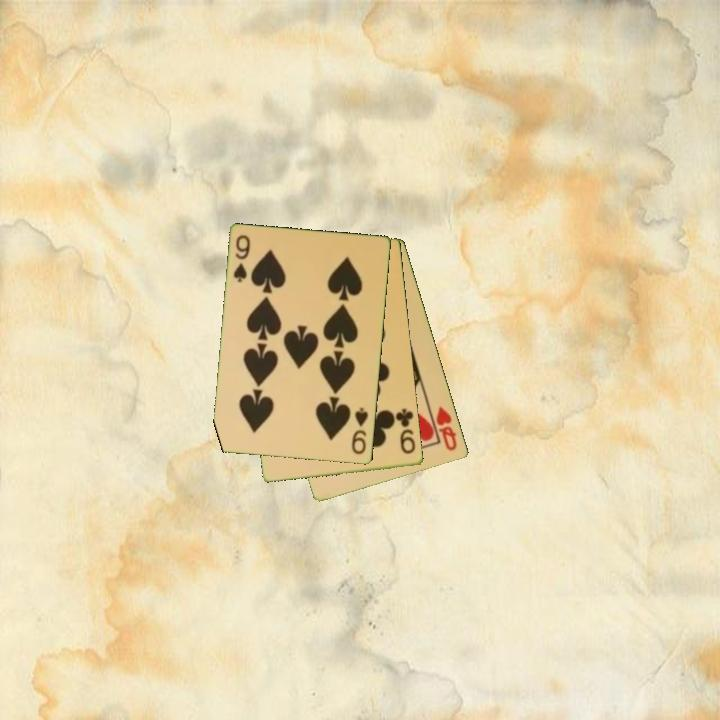9c: (392, 405, 418, 457)
9s: (230, 232, 254, 285), (348, 404, 371, 457)
Qh: (433, 403, 460, 454)
